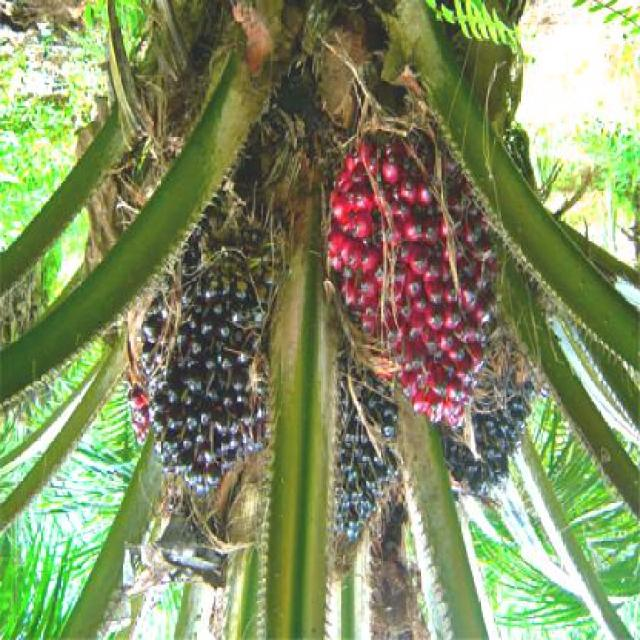palm-oil: (310, 118, 514, 430), (134, 192, 278, 481), (421, 308, 552, 491), (320, 323, 410, 539)
